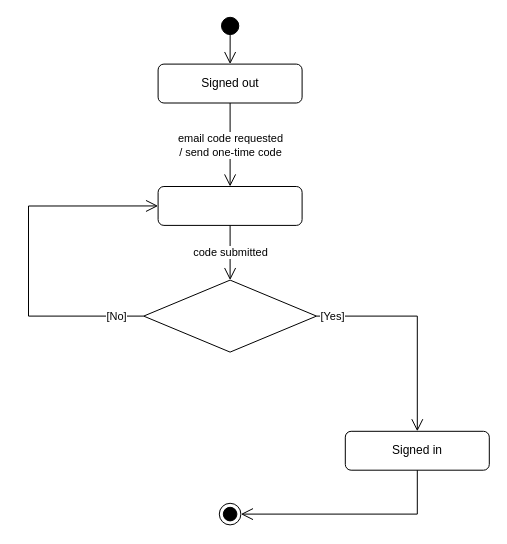
The diagram is 507 pixels wide and 544 high, and some of its shapes have lost their labels. The shapes that lost their labels are listed below. From the top down, each one's box as (x1, y1, x2, y2) in pixels, then its label:
(157, 186, 302, 225): Awaiting email code
(143, 279, 316, 352): Is code correct and unexpired?
